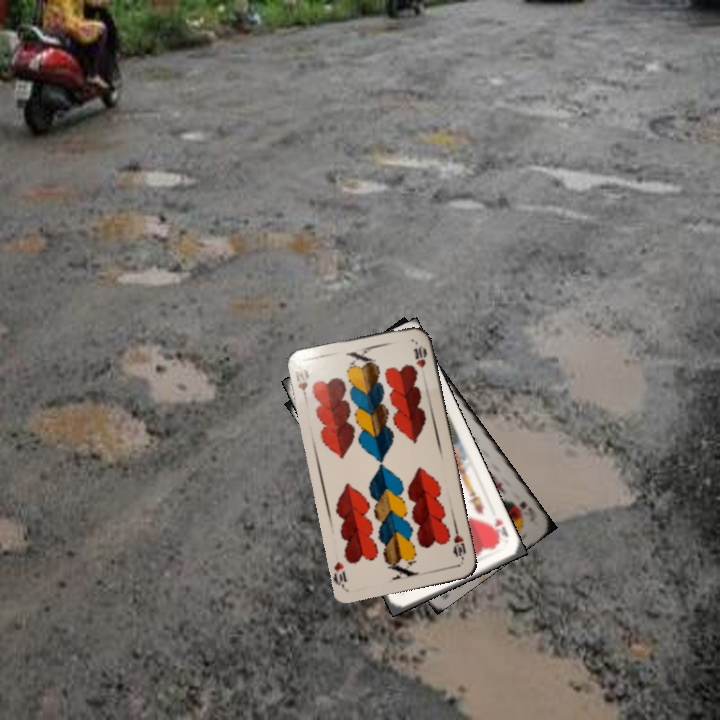H10: (291, 365, 312, 403), (450, 524, 469, 563)
HK: (486, 514, 511, 546)
SK: (515, 497, 538, 525)
